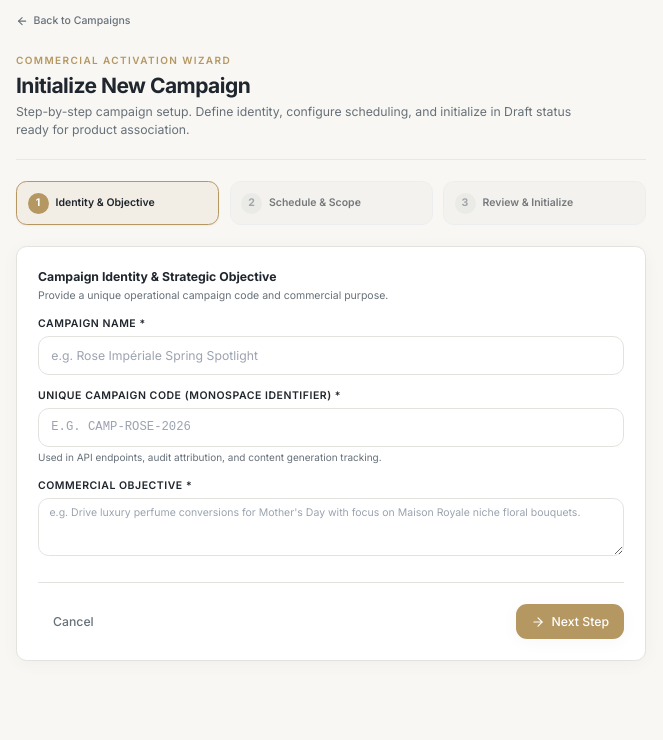
Test: Campaign Creation Wizard (WEB-CAMP-13 to WEB-CAMP-16) › WEB-CAMP-15: validates required fields before allowing progression
// Try to advance without filling required fields
Click the button "Next Step": (570, 622) x1=516 y1=604 x2=624 y2=639
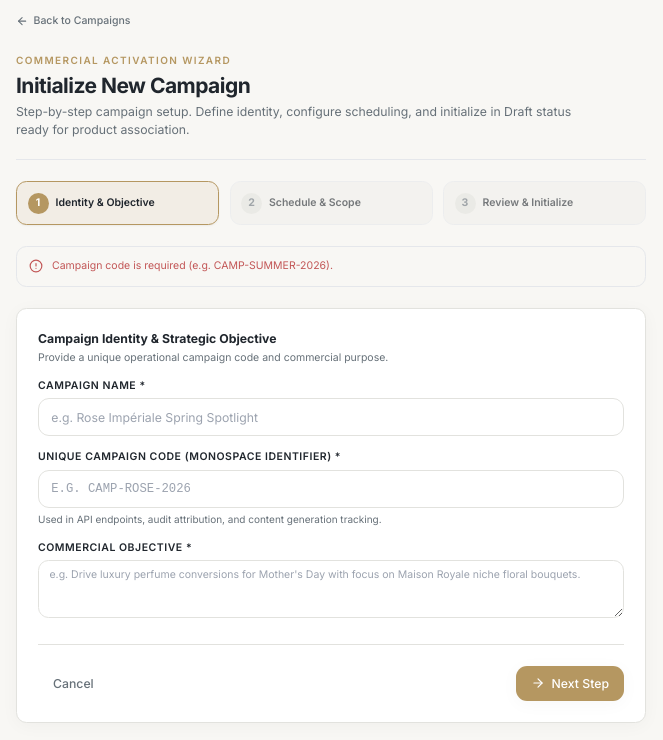
Expected: the text "Campaign code is required (e.g. CAMP-SUMMER-2026)." is shown, x1=52 y1=259 x2=333 y2=273
